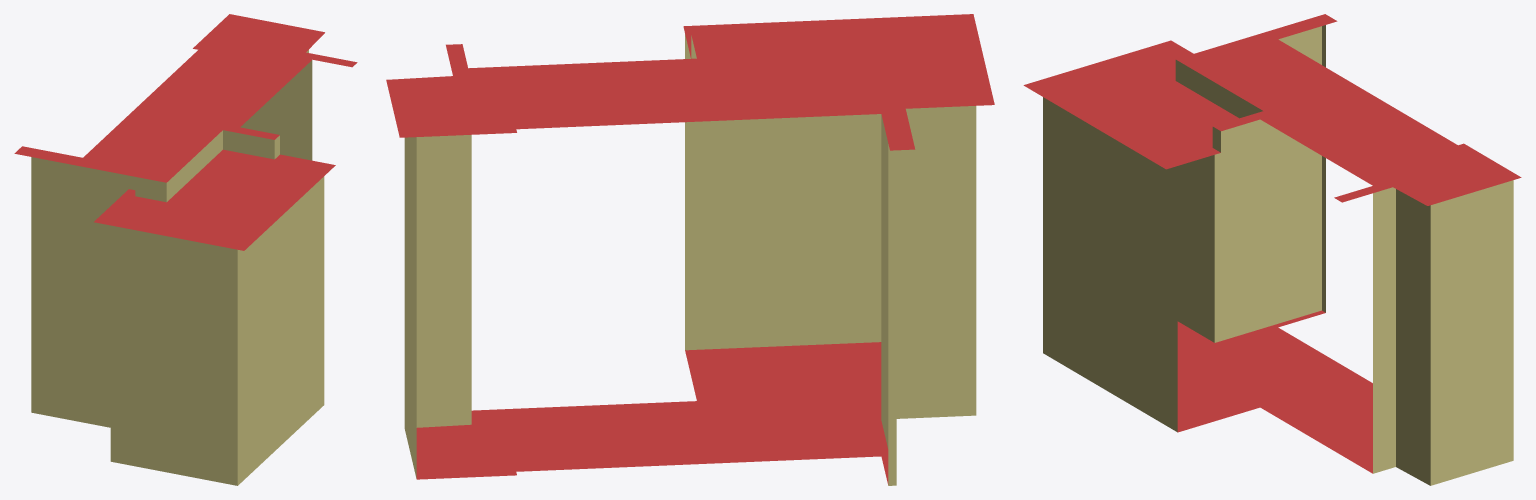
3 views of the same model, side by side, from view 1: azimuth 30°, elevation 25°; view 2: azimuth 150°, elevation 25°; view 3: azimuth 270°, elevation 25° (orthographic). The views are drawn at different scales.
Size of the model in its own units: 15.93 by 17.47 by 11.13.
